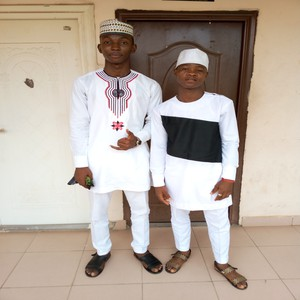Fulokoja_male_student: (71, 18, 163, 273), (159, 53, 248, 287)
